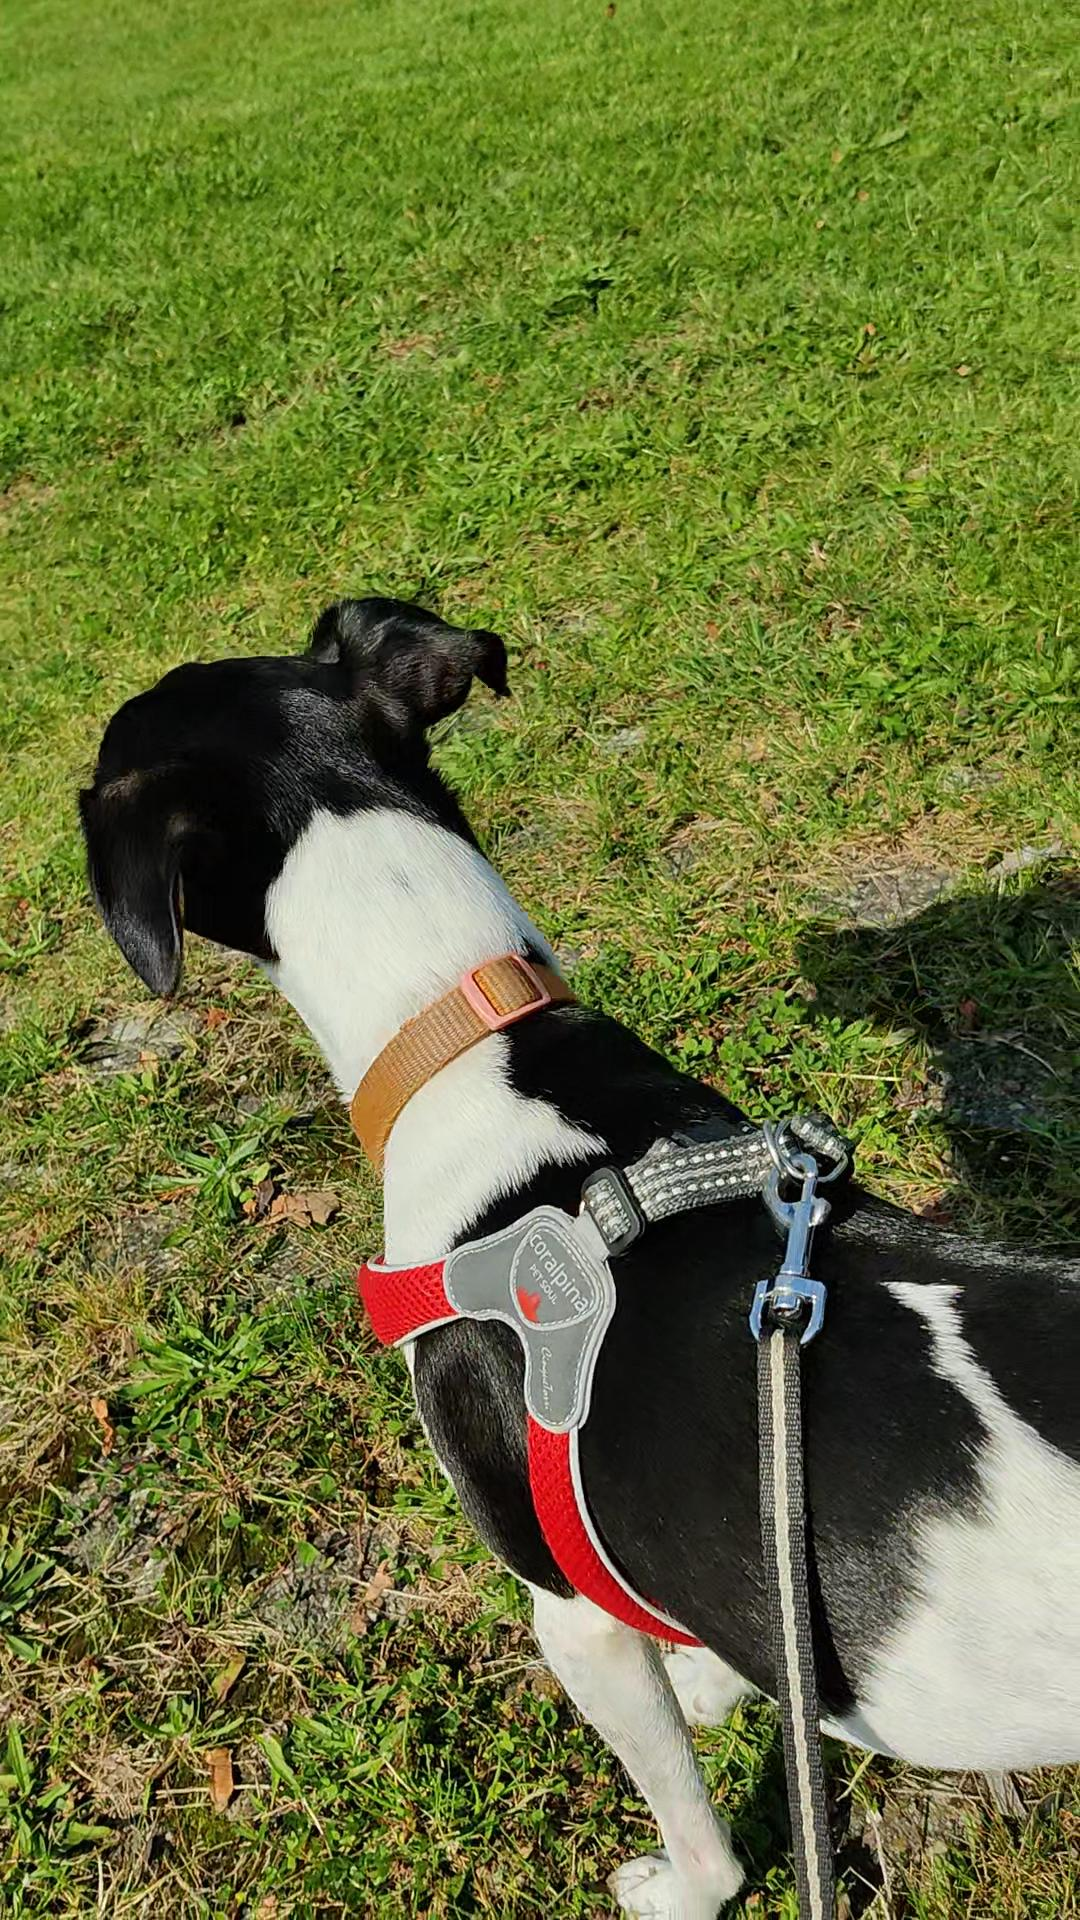Dog: (22, 562, 1079, 1919)
